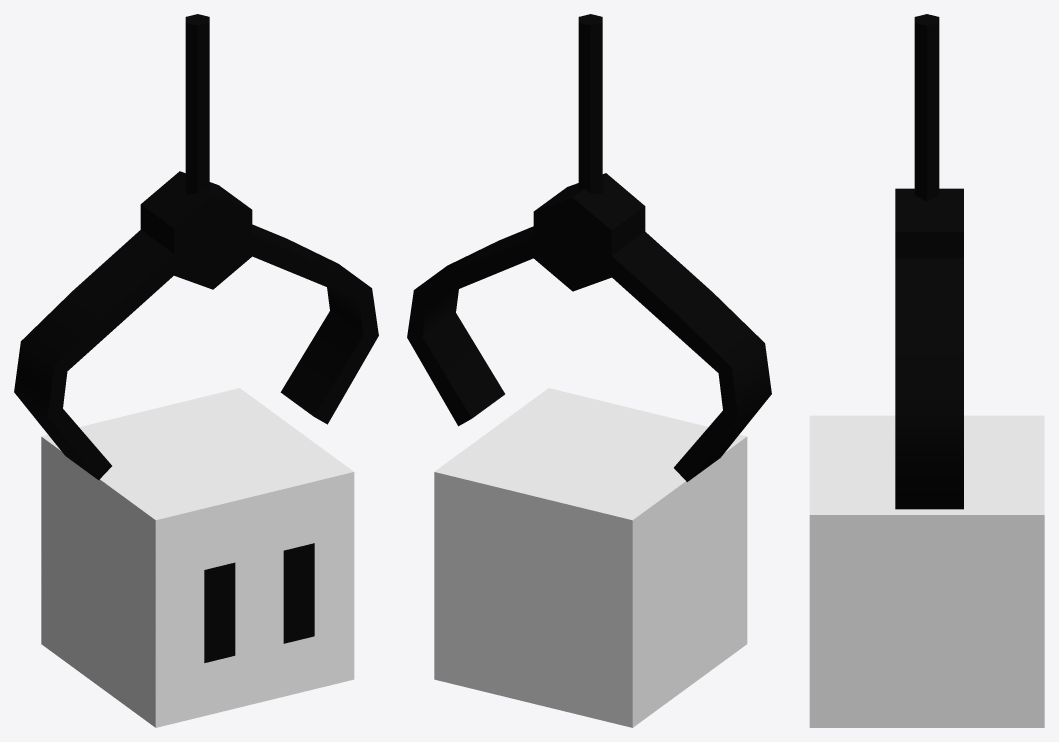
File: arm.glb
3 views of the same model, side by side, from view 1: azimuth 30°, elevation 25°; view 2: azimuth 150°, elevation 25°; view 3: azimuth 270°, elevation 25° (orthographic). The views are drawn at different scales.
Visible parts, largest first — view 1: haco_ana:pCube1, pPlane5, pCylinder3, pPlane4, haco_ana:pPlane2, haco_ana:pPlane1; view 2: haco_ana:pCube1, pPlane5, pCylinder3, pPlane4; view 3: haco_ana:pCube1, pPlane4, pCylinder3.
Boxes of the visible parts, x1,y1,x2,y2 form: haco_ana:pCube1: [41, 388, 354, 727]; pPlane5: [14, 230, 174, 480]; pCylinder3: [140, 14, 252, 289]; pPlane4: [252, 224, 378, 424]; haco_ana:pPlane2: [283, 543, 314, 643]; haco_ana:pPlane1: [204, 562, 235, 662]; haco_ana:pCube1: [434, 388, 747, 727]; pPlane5: [573, 229, 771, 481]; pCylinder3: [533, 14, 645, 291]; pPlane4: [407, 224, 572, 426]; haco_ana:pCube1: [809, 415, 1044, 727]; pPlane4: [895, 258, 963, 509]; pCylinder3: [895, 14, 963, 258].
Bounding box in the file's own units: 0.0835 × 0.1546 × 0.0519.
4 materials, 4 textured.
